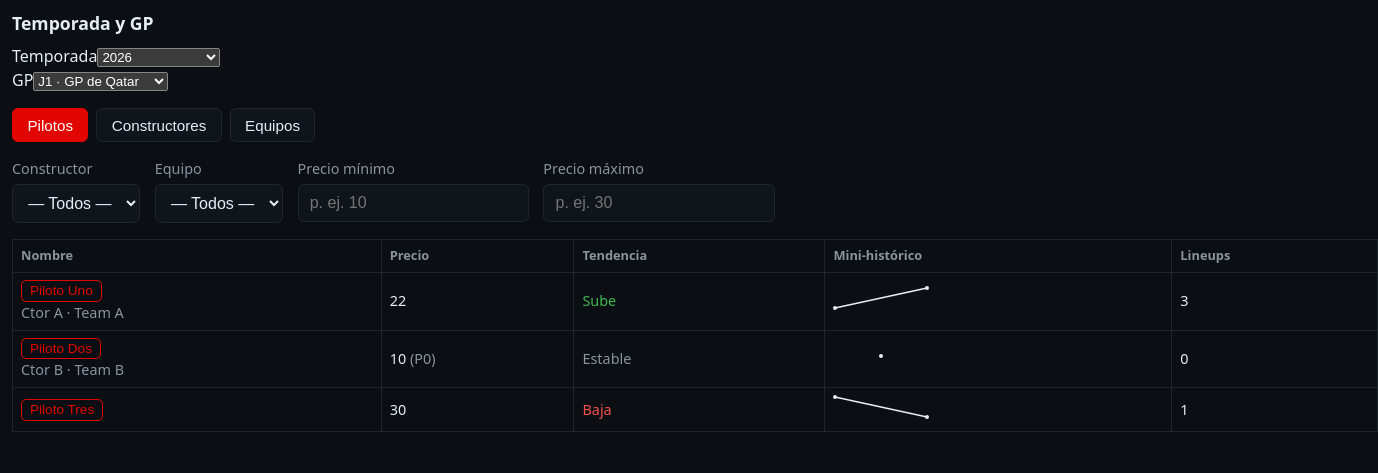
it: MercadoPage (US-14) › precio mínimo con más de 2 decimales: error local
Type "10.555" into the field labelled "Precio mínimo".
click(413, 203); type("10.555")  # box [298,184,529,222]
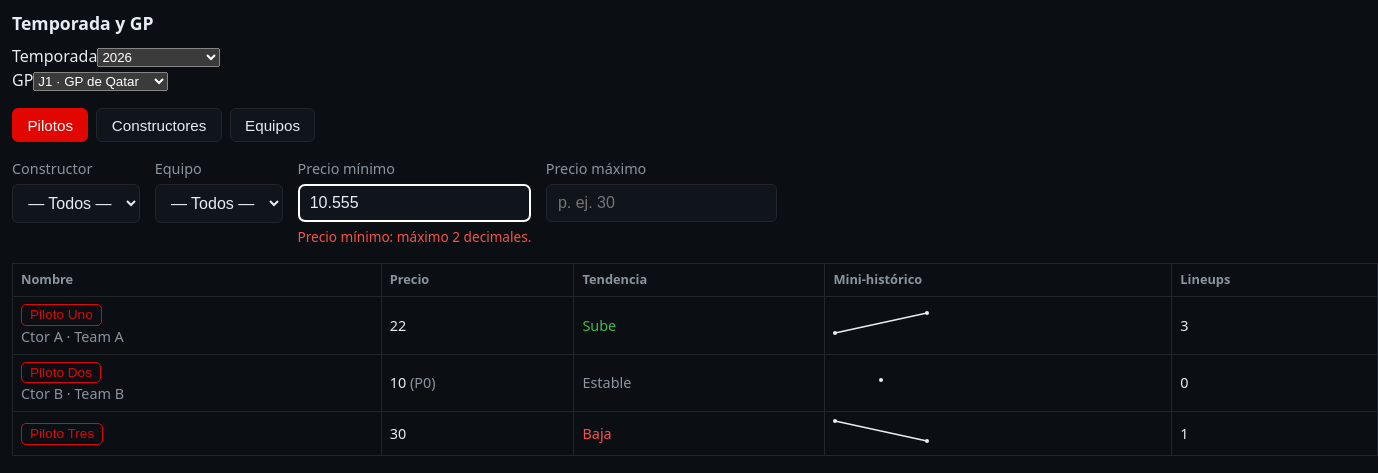
Expected: the text "Precio mínimo: máximo 2 decimales." is shown, [298,227,531,247]
